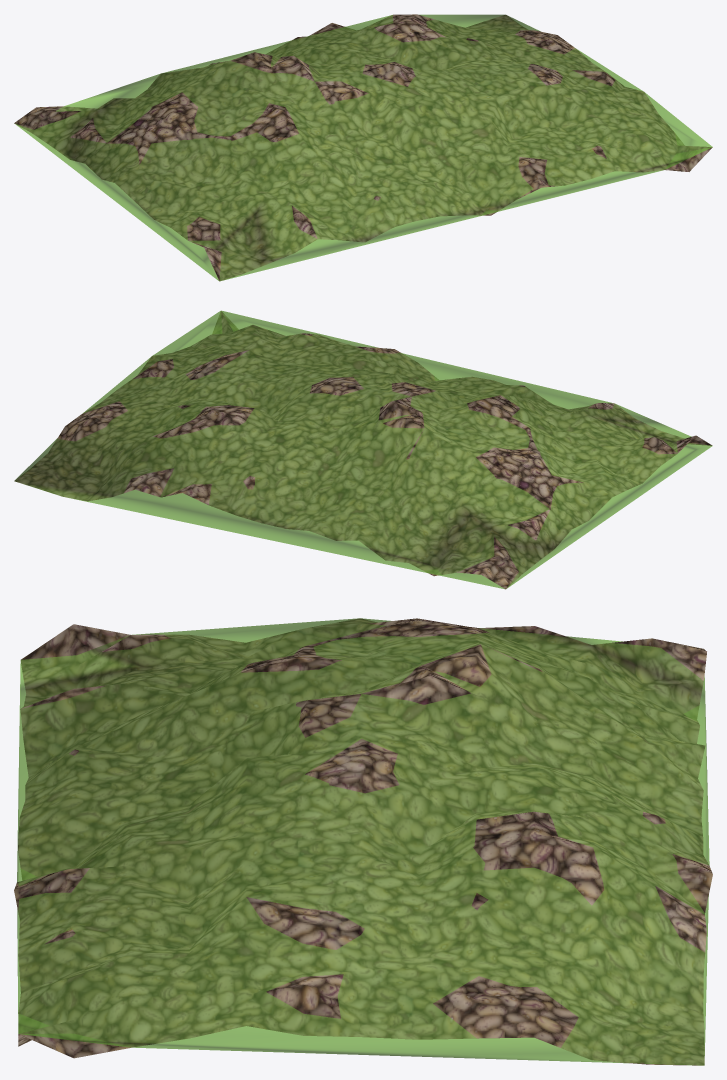
File: pg_Beans_02.fbx
3 renders of one model, top to bottom at view 1: azimuth 30°, elevation 25°; view 2: azimuth 150°, elevation 25°; view 3: azimuth 270°, elevation 25°, orthographic. The views are drawn at different scales.
Visible parts, largest first — view 1: pg_beans_02_a_LOD0, pg_beans_02_a_col; view 2: pg_beans_02_a_LOD0, pg_beans_02_a_col; view 3: pg_beans_02_a_LOD0, pg_beans_02_a_col.
Boxes of the visible parts, x1,y1,x2,y2 form: pg_beans_02_a_LOD0: [14, 14, 712, 281]; pg_beans_02_a_col: [15, 14, 712, 281]; pg_beans_02_a_LOD0: [14, 311, 712, 589]; pg_beans_02_a_col: [14, 310, 712, 589]; pg_beans_02_a_LOD0: [14, 618, 712, 1065]; pg_beans_02_a_col: [17, 618, 709, 1065].
Size of what is drawn, in the model's own units: 41.19 by 7.54 by 30.37.
